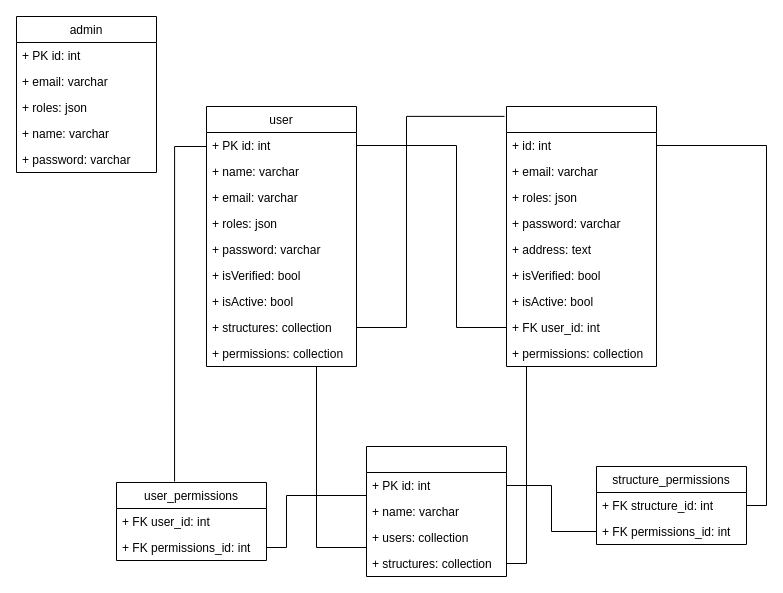
Some shapes in this 783 by 593 pixel diagram are drawn without their labels. Each missing label, with the box of its shape:
permissions: (366, 446, 506, 576)
structure: (506, 106, 656, 366)
